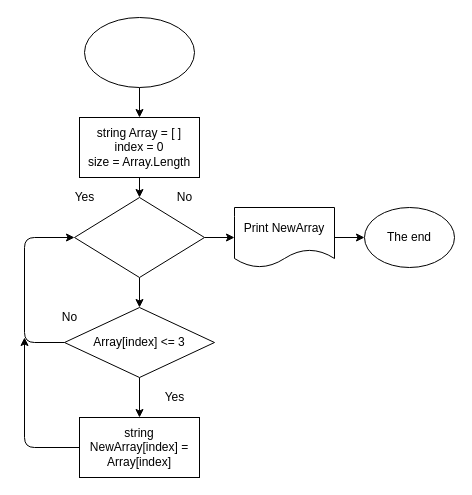
Image size: 472x495. Some labels were removed from this diagram. Each missing label, with the box of its shape:
index < Array.Length: (74, 196, 204, 278)
Start: (84, 16, 194, 88)
